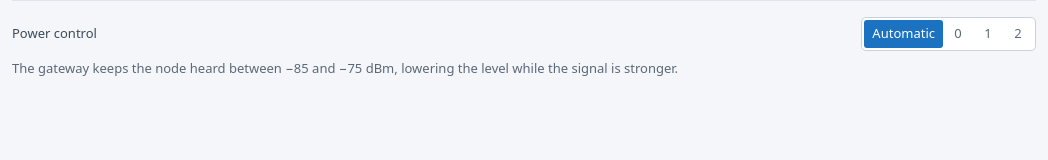
Test case: NodeRadio › applies a fixed level as soon as it is chosen, and keeps showing it until the record catches up
The image size is (1048, 160).
Click the button "1".
click(988, 34)  # box [973,20,1003,48]
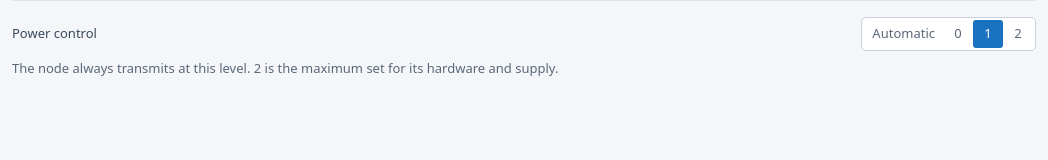
Expected: the text with class "radio-hint" shows "2 is the maximum", [12,58,558,76]
